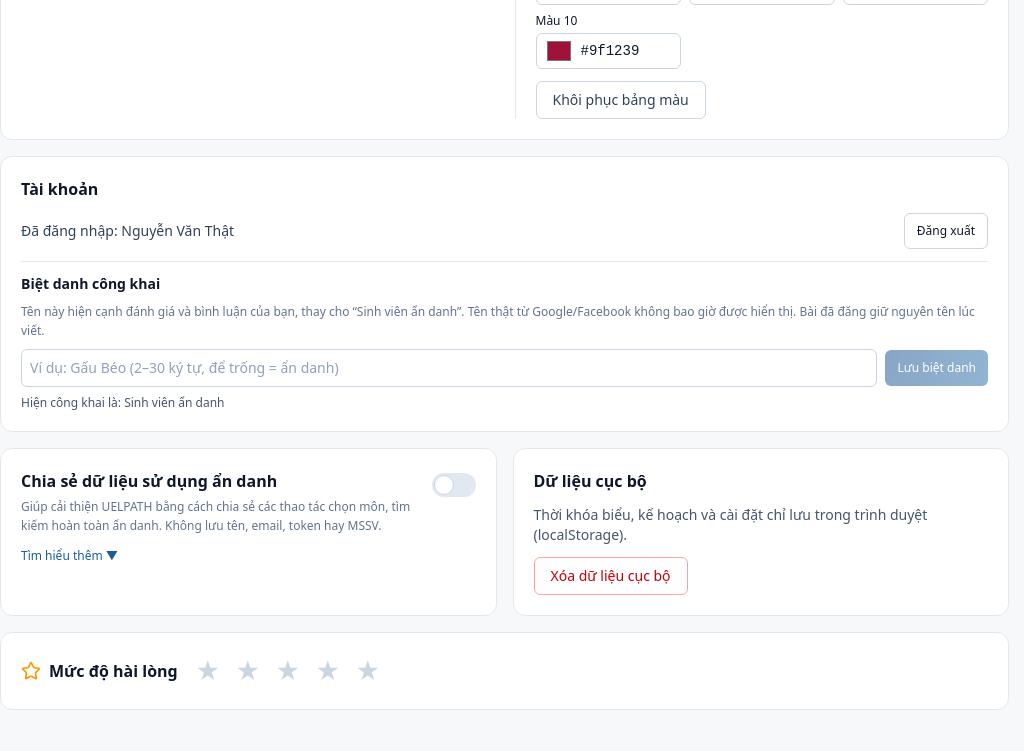
Cài đặt — biệt danh công khai › hiện 'Sinh viên ẩn danh' khi chưa đặt biệt danh và lưu được biệt danh mới
(page scrolled)
Expected: the text "Hiện công khai là: Sinh viên ẩn danh" is shown, [21,394,224,410]
Expected: the button "Lưu biệt danh" is disabled, [885,350,988,386]
Type "  Gấu Béo " into the field named "Biệt danh" at (449, 368), box [21,348,877,386]
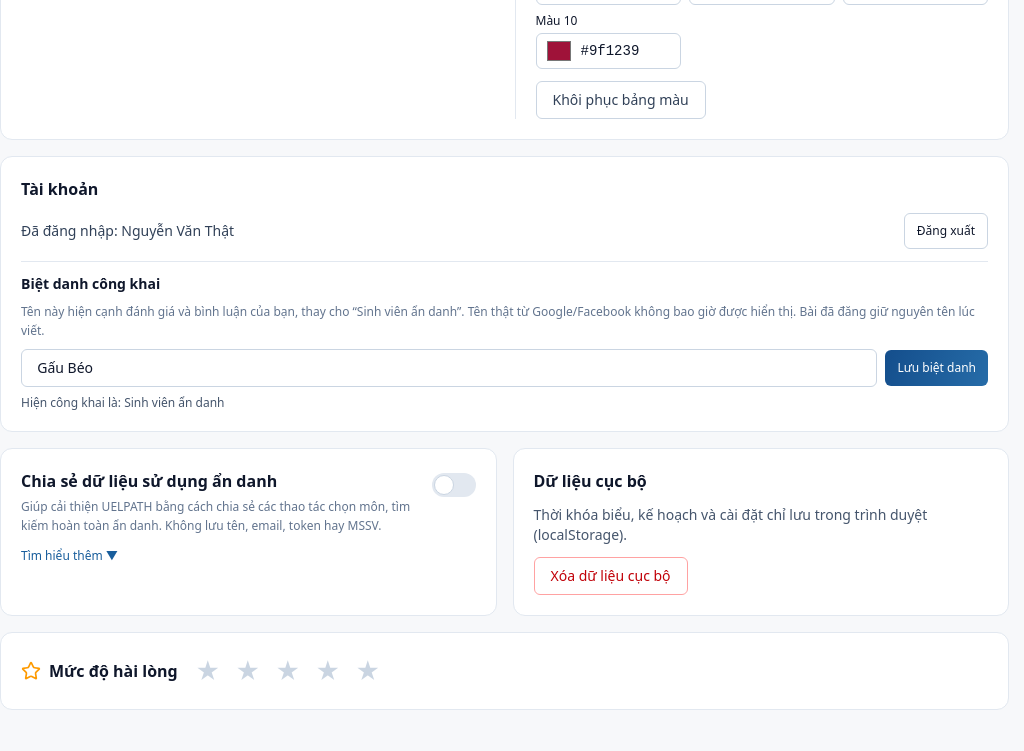
Result: the button "Lưu biệt danh" is enabled
Click the button "Lưu biệt danh" at (937, 368), box [885,350,988,386]
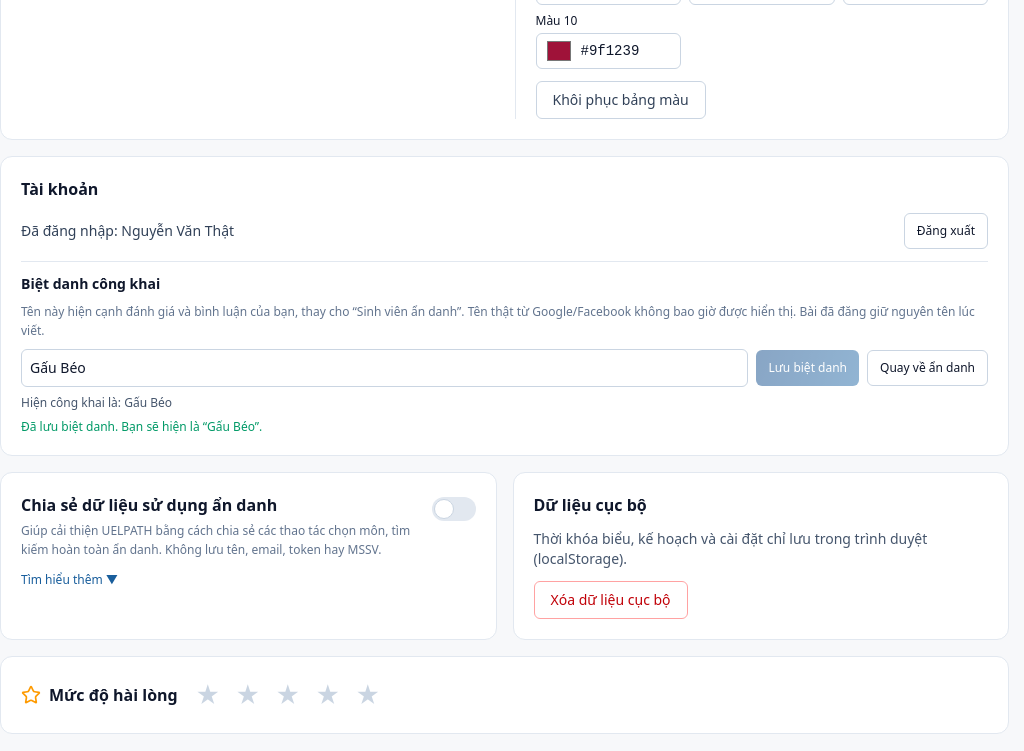
Result: the text "Hiện công khai là: Gấu Béo" is shown at [21,394,172,410]
Result: the message reads "Đã lưu biệt danh. Bạn sẽ hiện là “Gấu Béo”." at [21,418,262,434]
